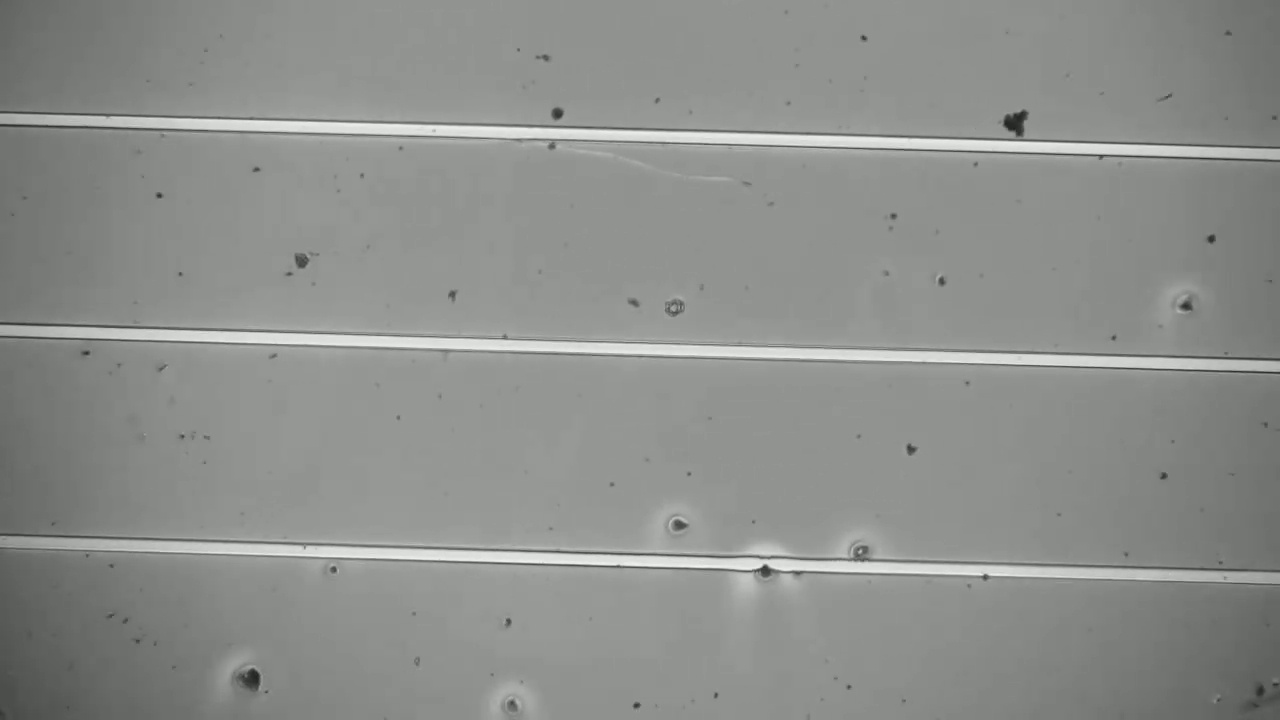stains_enbedded: (744, 550, 782, 592)
